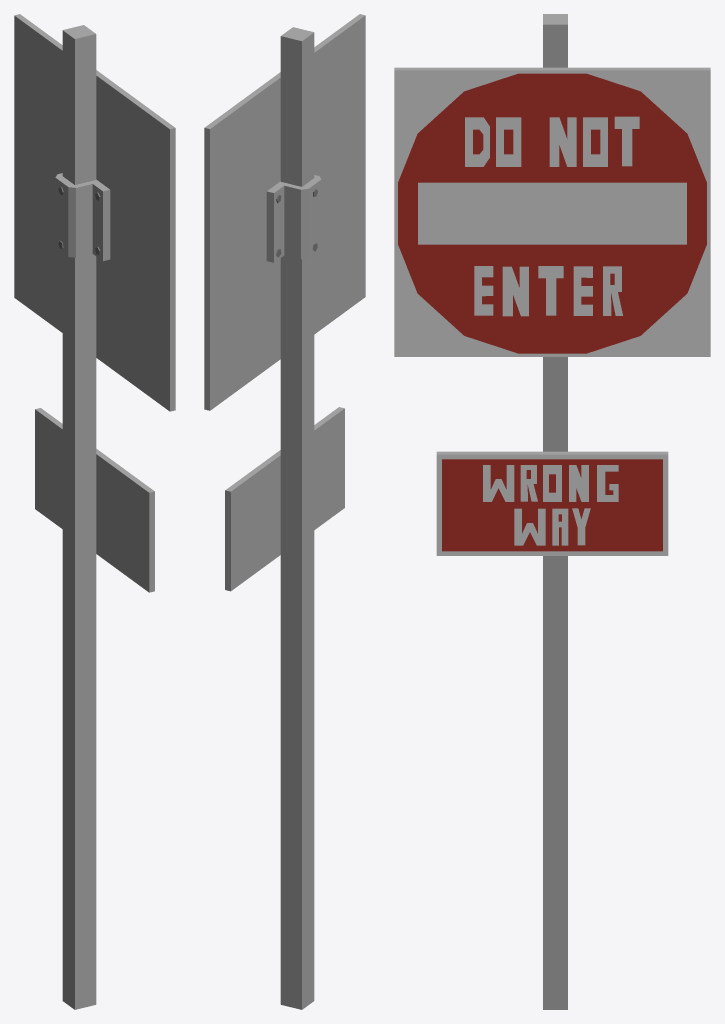
Rendered from SM_road_sign_4.gltf.
3 views of the same model, side by side, from view 1: azimuth 30°, elevation 25°; view 2: azimuth 150°, elevation 25°; view 3: azimuth 270°, elevation 25° (orthographic).
Visible parts, largest first — view 1: SM_road_sign_4; view 2: SM_road_sign_4; view 3: SM_road_sign_4.
Boxes of the visible parts, x1,y1,x2,y2 form: SM_road_sign_4: (14, 14, 175, 1009); SM_road_sign_4: (204, 14, 365, 1009); SM_road_sign_4: (394, 14, 710, 1009).
Bounding box in the file's own units: 0.0794 × 2.05 × 0.5952.
1 material, 1 textured.
